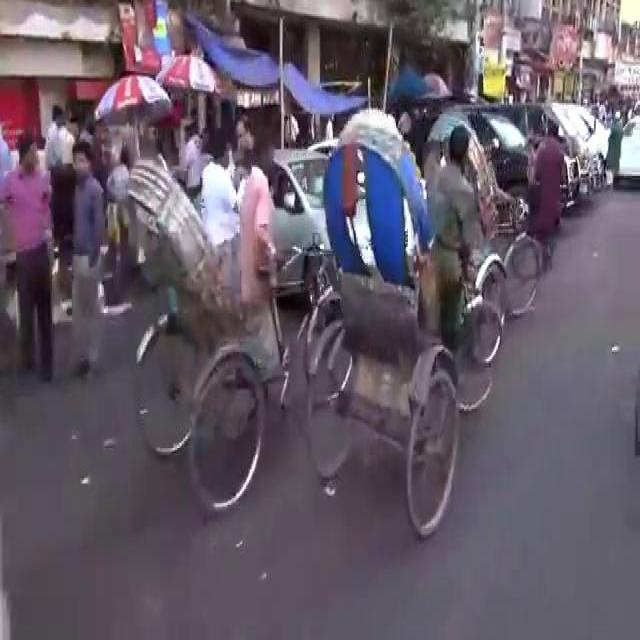car: (270, 143, 330, 291)
minivan: (476, 106, 580, 221)
rickshaw: (300, 108, 502, 550), (120, 154, 352, 511), (421, 105, 543, 318)
van: (516, 96, 604, 192)
